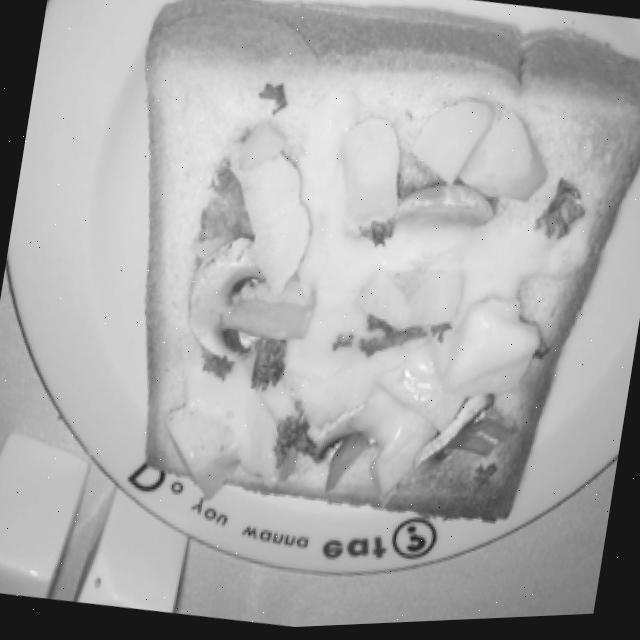面包点心: (42, 0, 640, 598)
